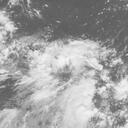cyclone: (18, 38, 102, 114)
